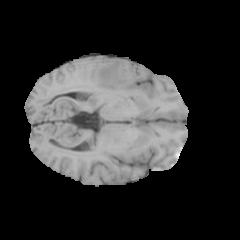glioma: (78, 56, 151, 98)
